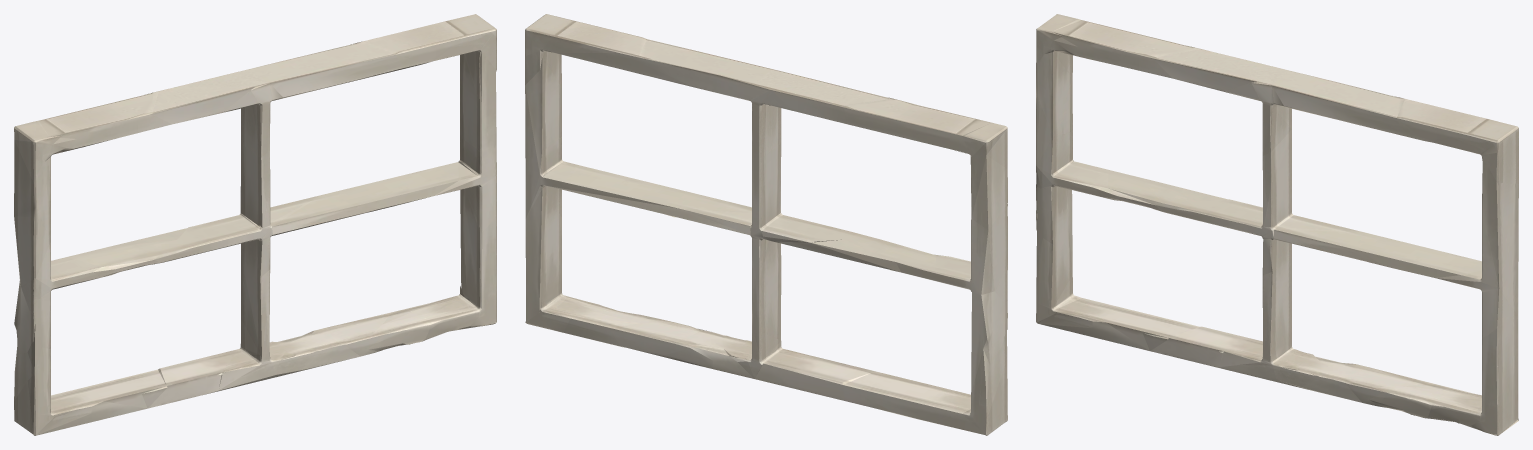
File: win_studio_cross.glb
3 renders of one model, left to right at view 1: azimuth 30°, elevation 25°; view 2: azimuth 150°, elevation 25°; view 3: azimuth 330°, elevation 25°, orthographic.
Size of the model in its own units: 1.9 by 1.16 by 0.1516.
Materials: 1 (1 with a texture image).
